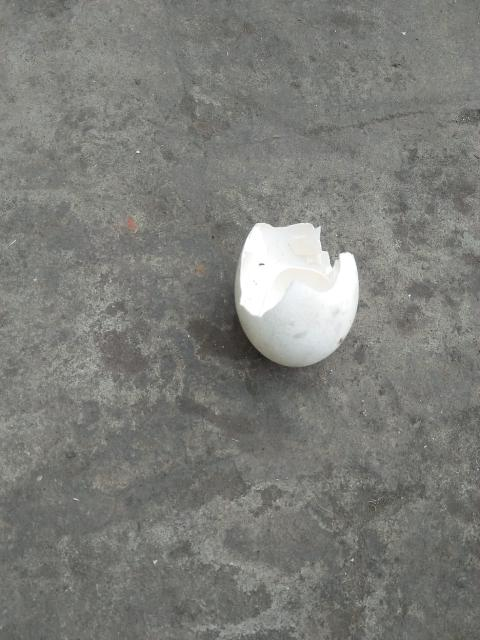Roto: (233, 220, 360, 368)
